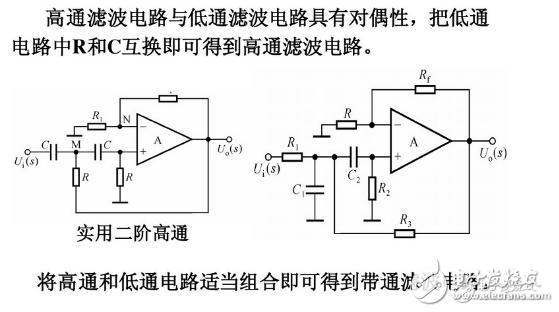amplifier: (386, 106, 455, 178), (133, 110, 194, 170)
cap1: (346, 144, 362, 171), (303, 181, 327, 199), (47, 143, 60, 162), (92, 142, 104, 162)
res1: (365, 174, 379, 203), (279, 150, 305, 164), (333, 117, 359, 131), (412, 83, 438, 96), (392, 228, 417, 240), (70, 165, 82, 189), (115, 165, 126, 190), (84, 121, 109, 132), (157, 93, 180, 104)
